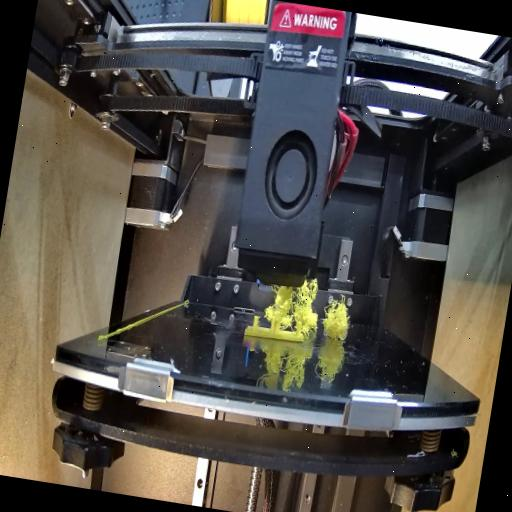spaghetti: (265, 272, 324, 331), (319, 300, 357, 342)
